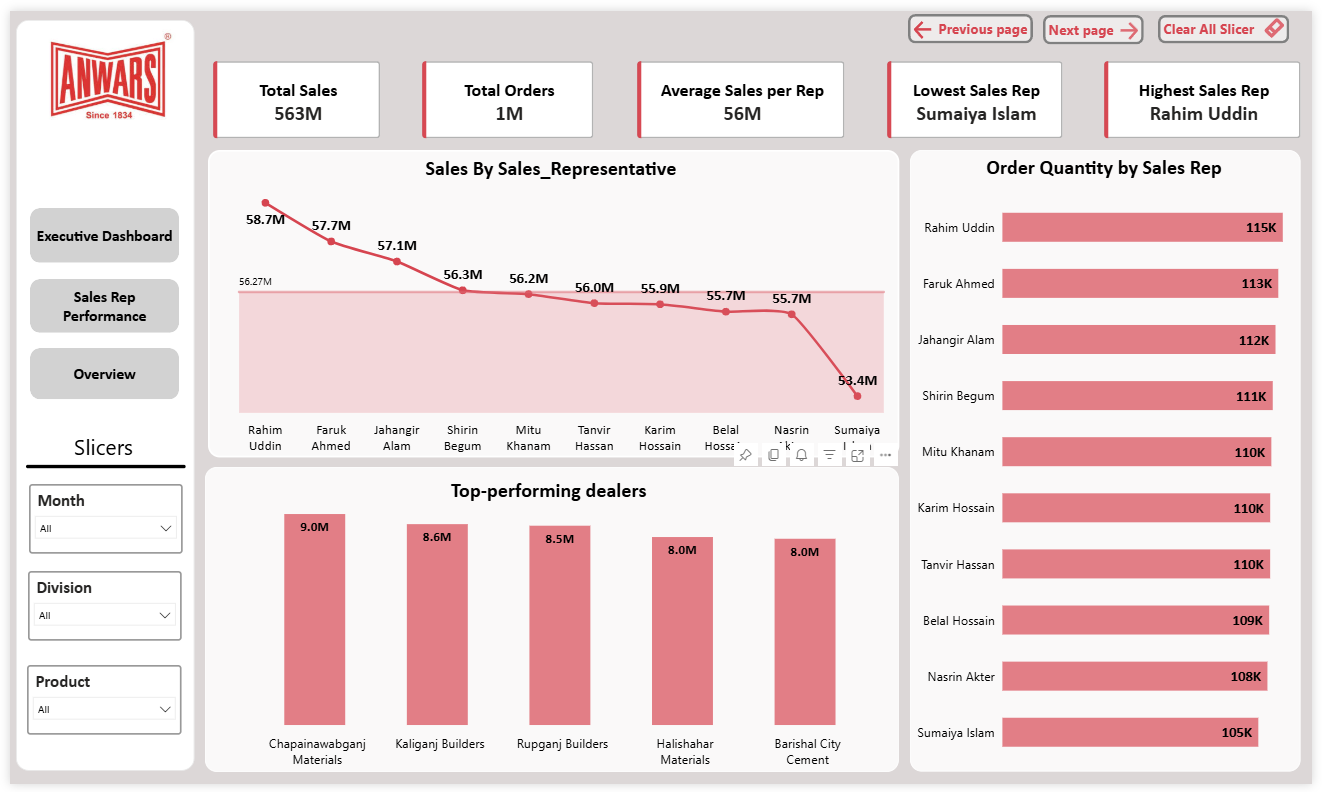

The dashboard page shown, as its layout file describes it:
{"tool":"powerbi","page":{"name":"Sales Rep Performance","canvas":[1550,920],"ordinal":2},"visuals":[{"type":"group","id":"g1","title":"Group 1","box":[0,11,232.5,893.8],"z":0,"group":"g2"},{"type":"cardVisual","title":"Total Sales","fields":{"Data":["_Measures.Total Sales"]},"box":[230,47.5,223.8,116.2],"z":0},{"type":"lineChart","title":"Sales By Sales_Representative","fields":{"Category":["Sales_Data.Sales_Rep"],"Y":["Sum(Sales_Data.Sales_Amount_BDT)"]},"box":[236.2,165,822.5,366.2],"z":1000},{"type":"cardVisual","title":"Total Sales","fields":{"Data":["_Measures.Total Orders"]},"box":[478.8,47.5,228.8,116.2],"z":2000},{"type":"cardVisual","title":"Total Sales","fields":{"Data":["_Measures.Average Sales per Rep"]},"box":[735,47.5,271.2,116.2],"z":3000},{"type":"clusteredBarChart","title":"Order Quantity by Sales Rep","fields":{"Y":["Sum(Sales_Data.Order_Quantity)"],"Category":["Sales_Data.Sales_Rep"]},"box":[1071.2,165,465,740],"z":4000},{"type":"shape","box":[7.5,11,212.5,893.8],"z":5000,"group":"g1"},{"type":"cardVisual","title":"Total Sales","fields":{"Data":["_Measures.Lowest Sales Rep"]},"box":[1031.6,47.5,233.8,116.2],"z":5000},{"type":"cardVisual","title":"Total Sales","fields":{"Data":["_Measures.Highest Sales Rep"]},"box":[1290.6,47.5,258.8,116.2],"z":6000},{"type":"actionButton","title":"Sales Overview","box":[23.8,235.2,177.5,65.3],"z":6000,"group":"g2"},{"type":"group","id":"g2","title":"Group 2","box":[0,11,232.5,893.8],"z":7000},{"type":"actionButton","box":[1230,5,120,35],"z":8000},{"type":"shape","box":[18.5,524.5,190,37],"z":8000,"group":"g2"},{"type":"actionButton","box":[1068.8,3.8,148.8,35],"z":9000},{"type":"actionButton","box":[1366.2,5,156.2,33.8],"z":10000},{"type":"slicer","title":"Month","fields":{"Values":["LocalDateTable_8a713fd1-94c4-4bf1-bb59-1344b7c62bfd.Month"]},"box":[22.9,562.9,182.9,83.1],"z":10000,"group":"g2"},{"type":"columnChart","title":"Top-performing dealers","fields":{"Category":["Dealer.Dealer_Name"],"Y":["Sum(Sales_Data.Sales_Amount_BDT)"]},"box":[232.5,542.5,826.2,362.5],"z":11000},{"type":"slicer","title":"Location","fields":{"Values":["Dealer.Division"]},"box":[21.4,667.1,182.9,83.1],"z":11000,"group":"g2"},{"type":"slicer","title":"Location","fields":{"Values":["Sales_Data.Product"]},"box":[20,778.4,184.3,83.1],"z":13000,"group":"g2"},{"type":"actionButton","box":[43,497.7,137.1,39.4],"z":14000,"group":"g2"},{"type":"image","box":[0,17.2,232.5,131.9],"z":15000,"group":"g1"},{"type":"actionButton","title":"Sales Overview","box":[23.8,319,177.5,64.1],"z":15000,"group":"g2"},{"type":"actionButton","title":"Sales Overview","box":[23.8,401,177.5,61.2],"z":16000,"group":"g2"}]}

Visuals, with their boxes in screenshot pixels (x1, y1, x2, y2), scaled from the page's 1550x920 canvas onto the 1322x792 screenshot:
"Group 1" group: 0:9:198:779
"Total Sales" cardVisual: 196:41:387:141
"Sales By Sales_Representative" lineChart: 201:142:903:457
"Total Sales" cardVisual: 408:41:604:141
"Total Sales" cardVisual: 627:41:858:141
"Order Quantity by Sales Rep" clusteredBarChart: 914:142:1310:779
shape: 6:9:188:779
"Total Sales" cardVisual: 880:41:1079:141
"Total Sales" cardVisual: 1101:41:1321:141
"Sales Overview" actionButton: 20:202:172:259
"Group 2" group: 0:9:198:779
actionButton: 1049:4:1151:34
shape: 16:452:178:483
actionButton: 912:3:1038:33
actionButton: 1165:4:1298:33
"Month" slicer: 20:485:176:556
"Top-performing dealers" columnChart: 198:467:903:779
"Location" slicer: 18:574:174:646
"Location" slicer: 17:670:174:742
actionButton: 37:428:154:462
image: 0:15:198:128
"Sales Overview" actionButton: 20:275:172:330
"Sales Overview" actionButton: 20:345:172:398
